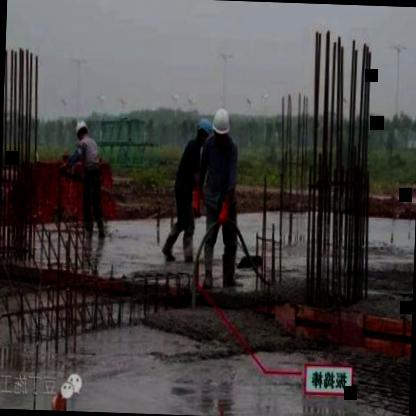helmet: (212, 105, 232, 143), (196, 114, 212, 149), (74, 118, 88, 144)
